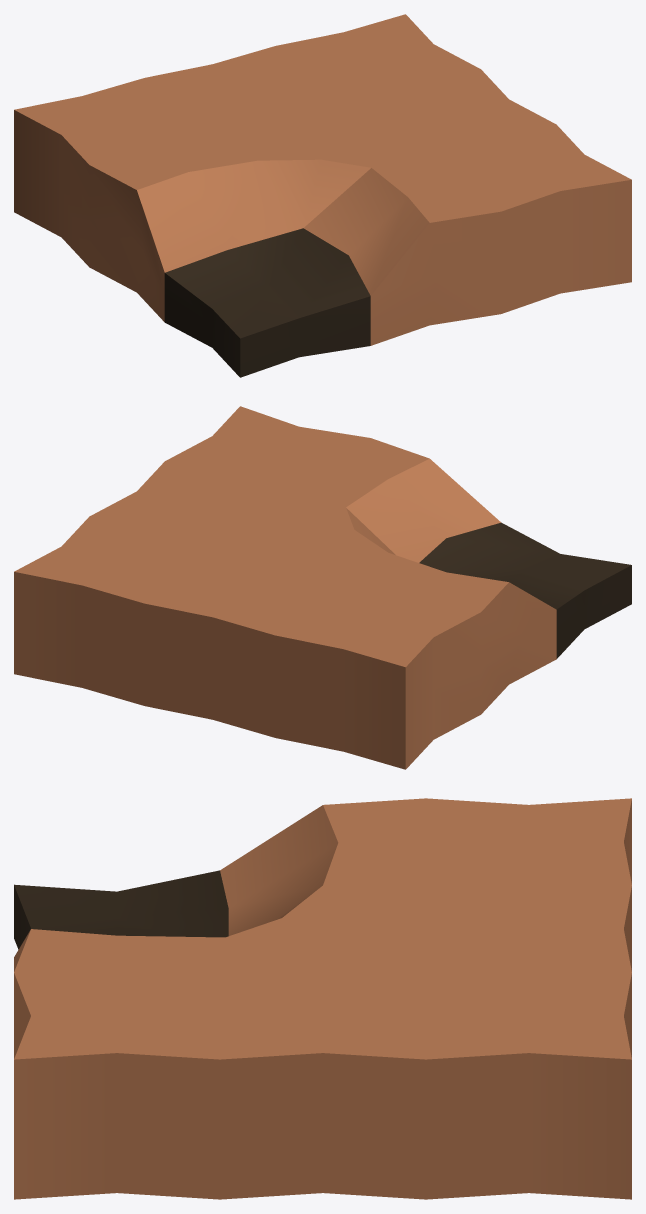
The model's file is jaggeredTile-23a_col.fbx.
3 renders of one model, top to bottom at view 1: azimuth 30°, elevation 25°; view 2: azimuth 150°, elevation 25°; view 3: azimuth 270°, elevation 25°, orthographic. The views are drawn at different scales.
Visible parts, largest first — view 1: jaggeredTile-23a.col; view 2: jaggeredTile-23a.col; view 3: jaggeredTile-23a.col.
Boxes of the visible parts, x1,y1,x2,y2 form: jaggeredTile-23a.col: [14, 14, 631, 377]; jaggeredTile-23a.col: [14, 406, 631, 769]; jaggeredTile-23a.col: [14, 798, 631, 1199].
Size of the model in its own units: 2 by 0.5 by 2.
1 material, 1 textured.
